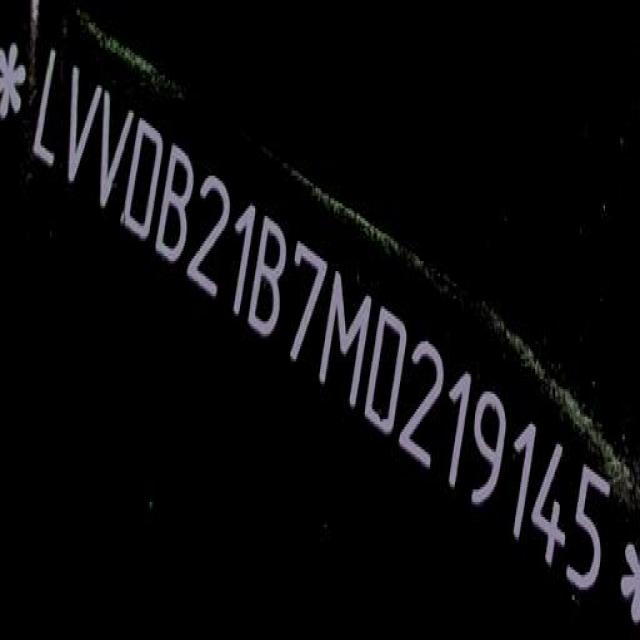0: (361, 297, 419, 448)
1: (499, 407, 546, 552), (436, 359, 480, 499), (219, 194, 264, 330)
2: (394, 328, 454, 480), (187, 162, 240, 311)
4: (524, 432, 583, 574)
5: (562, 455, 622, 601)
7: (280, 234, 337, 383)
9: (458, 382, 519, 522)
B: (244, 204, 298, 347), (150, 137, 202, 277)
D: (117, 106, 171, 251)
L: (28, 37, 80, 185)
M: (314, 266, 380, 414)
V: (90, 74, 148, 235), (62, 58, 110, 209)
